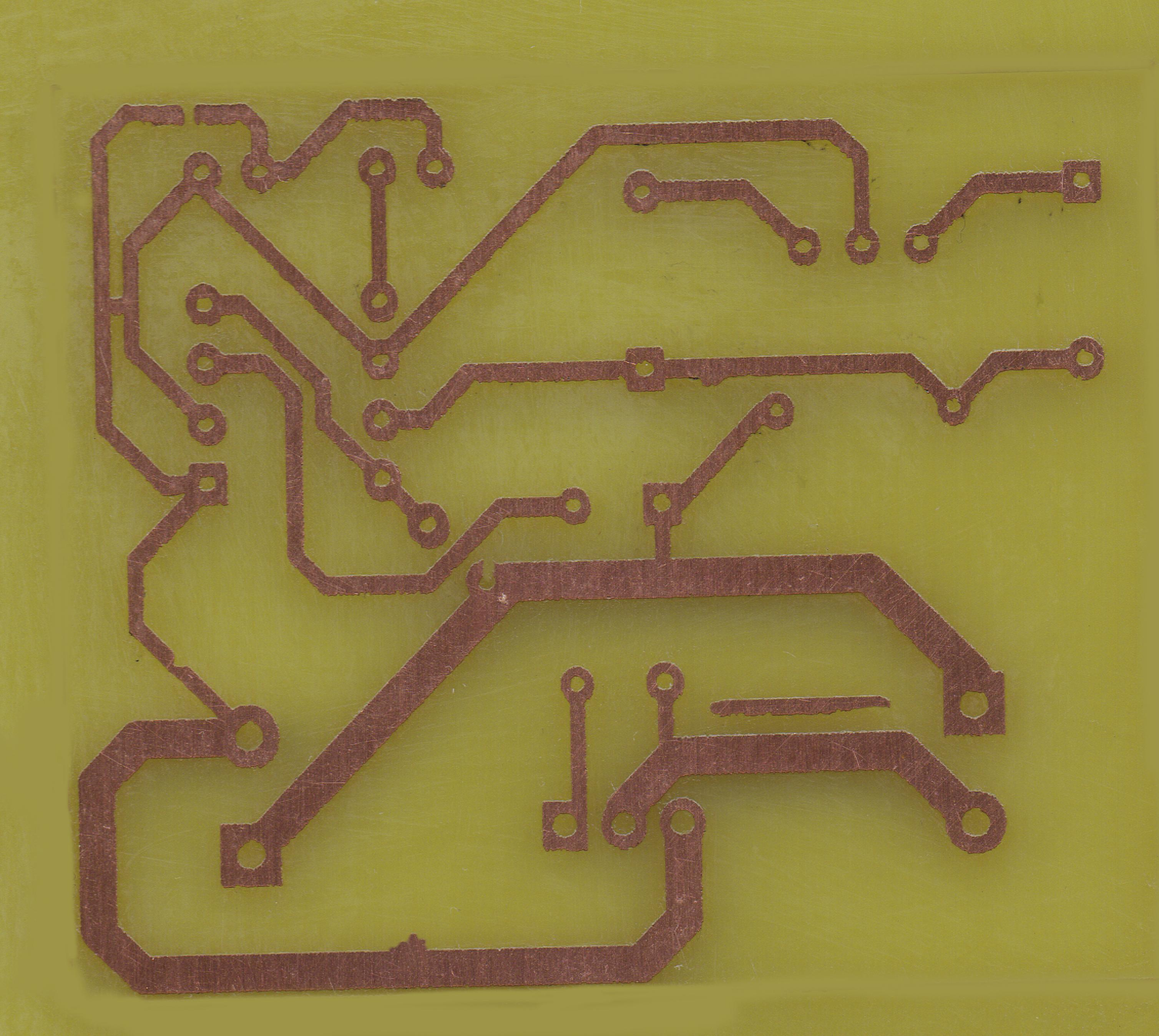missing_hole: (467, 556, 511, 603)
mouse_bite: (162, 651, 194, 676)
open_circuit: (165, 97, 215, 133)
short: (93, 289, 138, 329)
spur: (380, 931, 438, 999), (691, 352, 736, 391)
spurious_copper: (708, 692, 890, 719)
